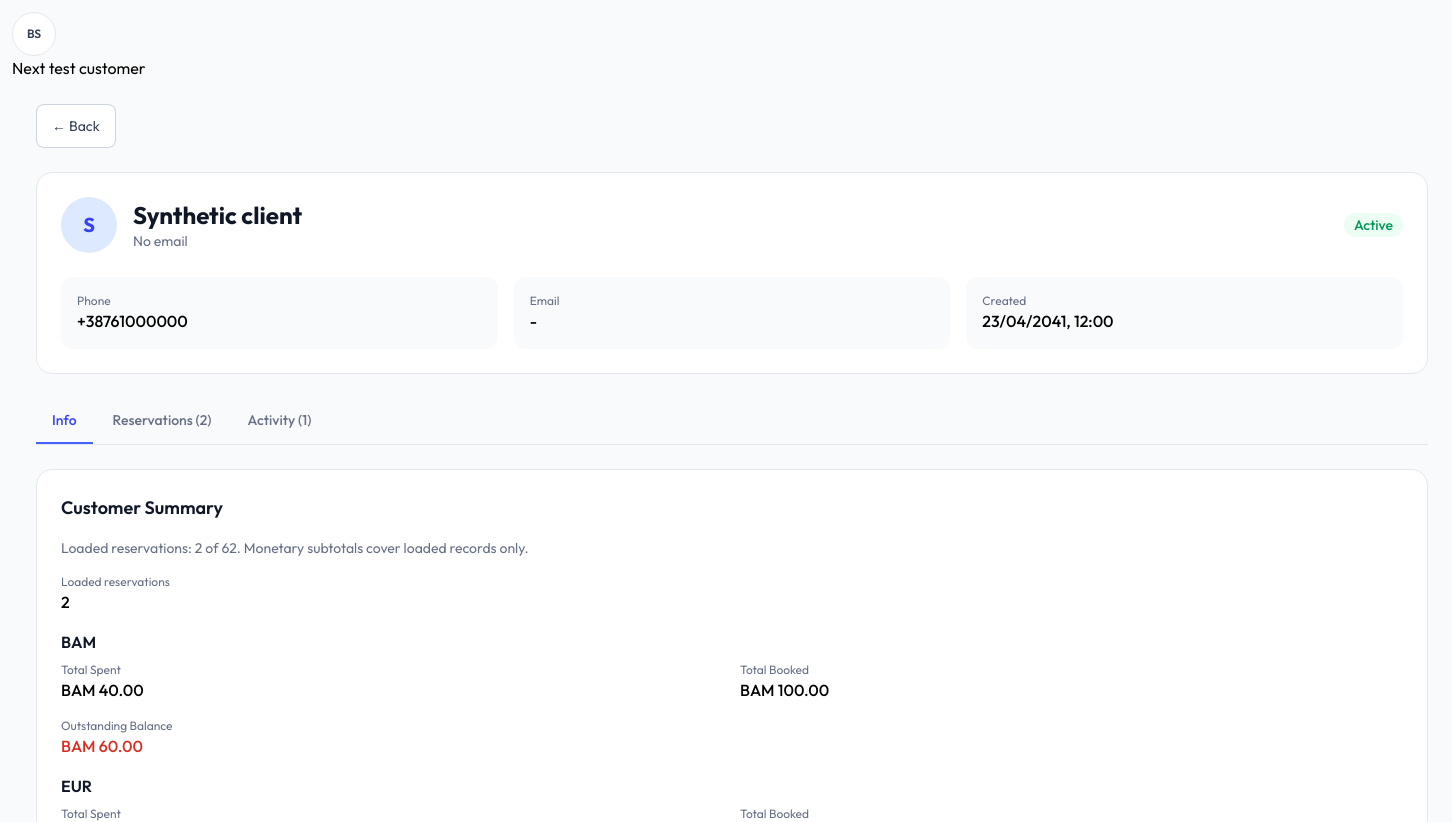
Test: uses the source currency and translated action in reservation timeline entries
Expected: the heading "Synthetic client" is shown, [133,199,302,231]
Click the button "Activity (1)".
click(279, 421)  # box [232,398,327,444]
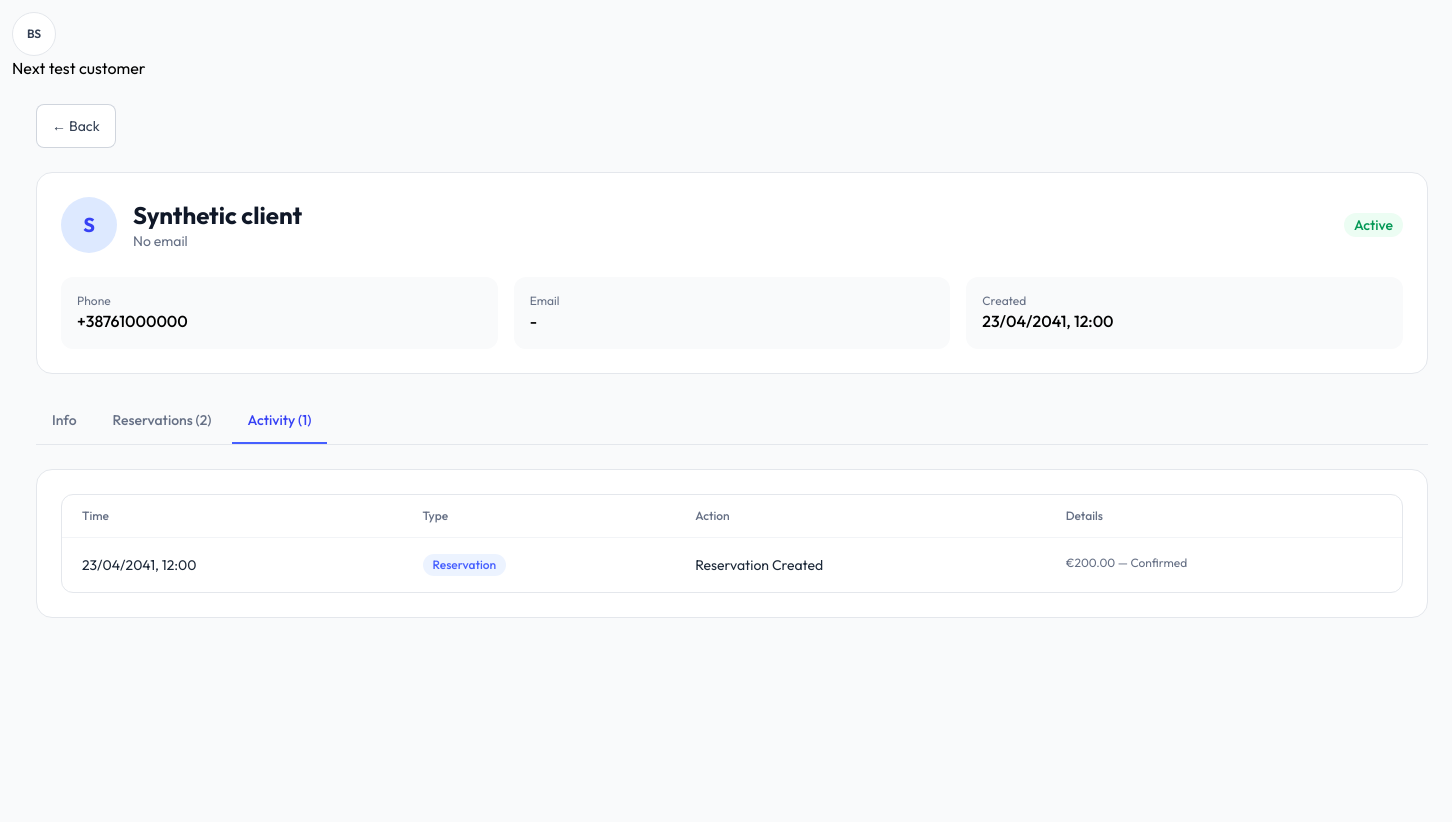
Result: the text "€200.00 — Confirmed" is shown at [1066,554,1187,570]
Result: the text "Reservation created" is shown at [695,556,823,574]
